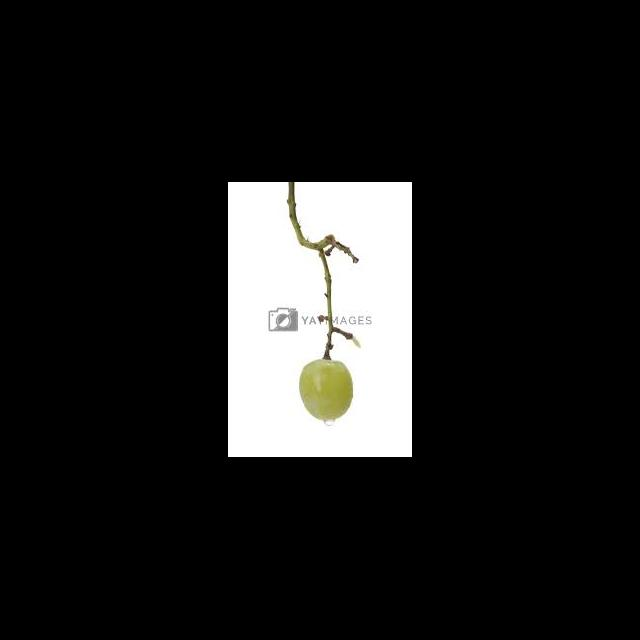grape: (298, 358, 353, 426)
